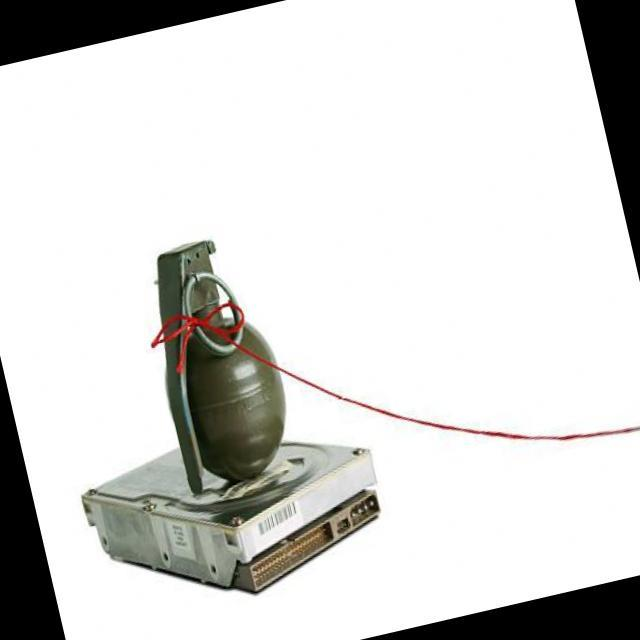grenade: (123, 213, 315, 504)
